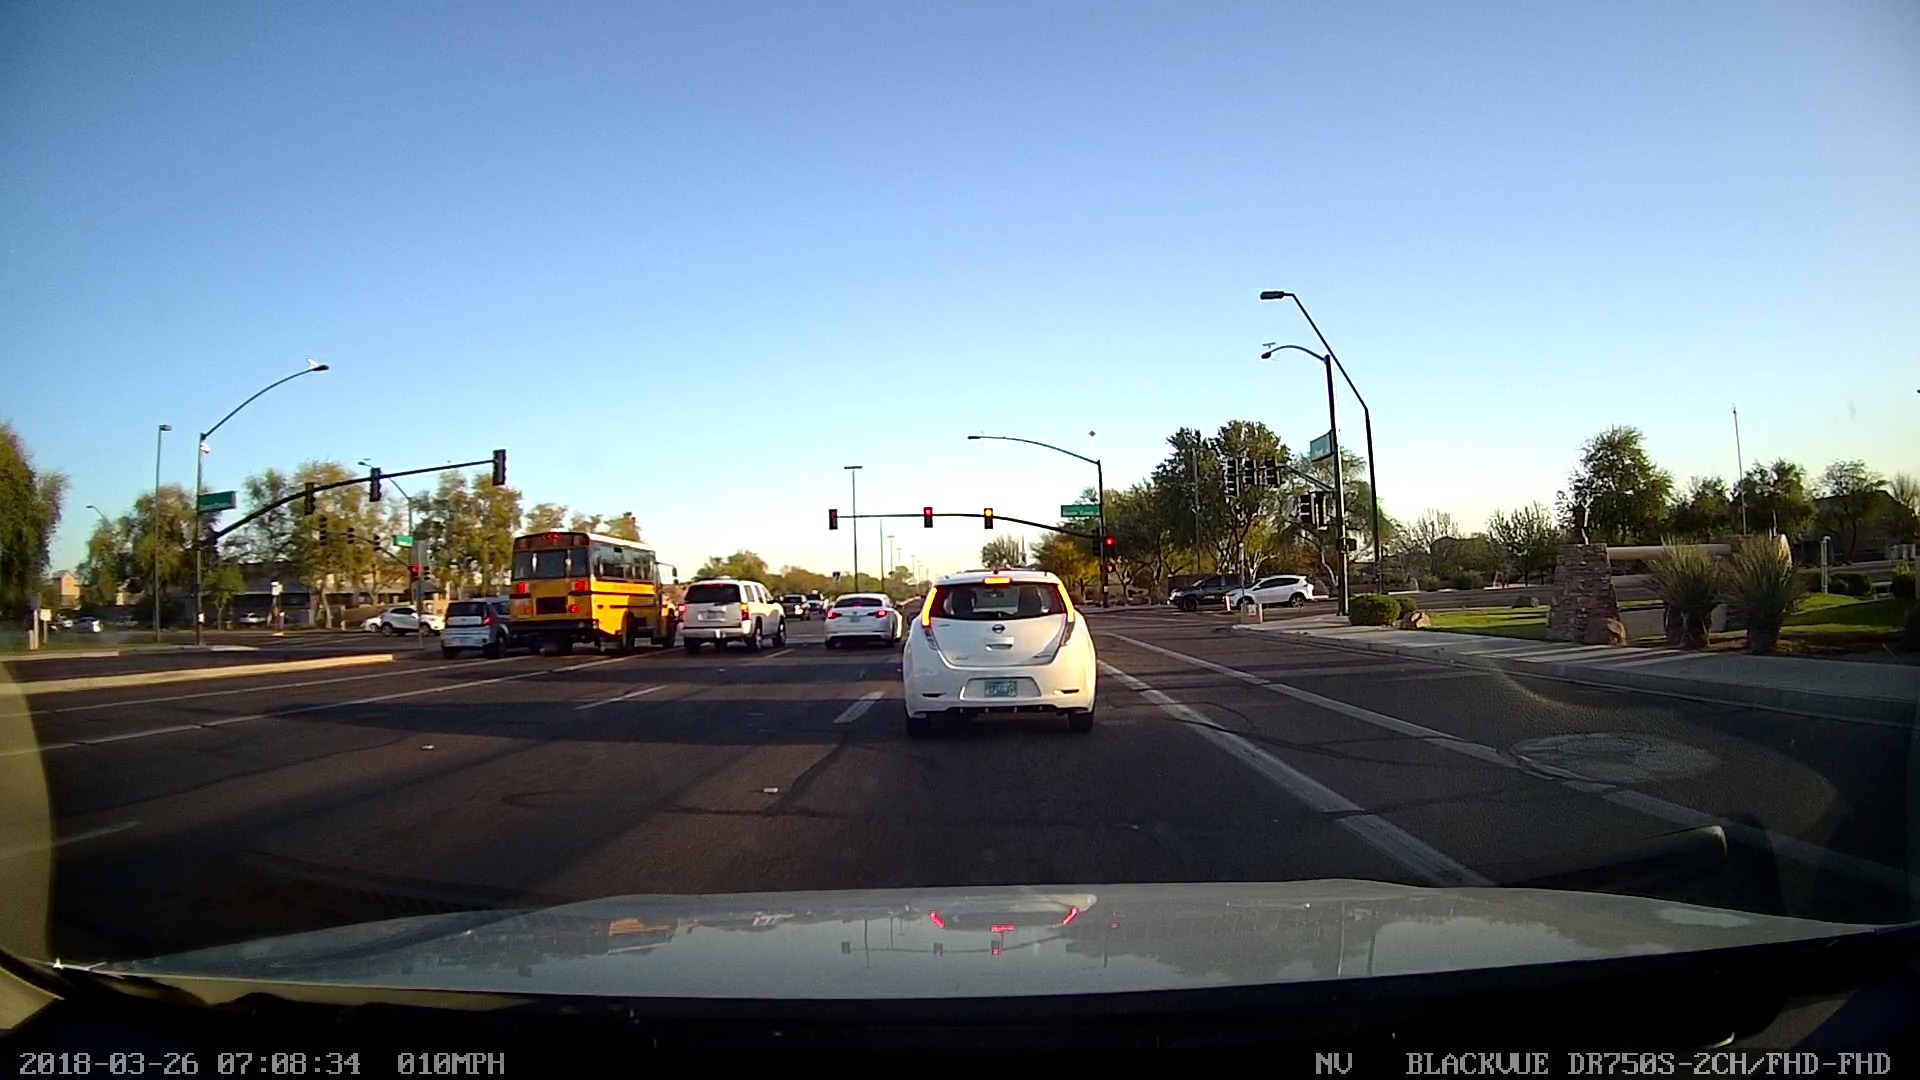vehicle: (894, 556, 1104, 740), (496, 520, 690, 671), (665, 567, 793, 654), (431, 589, 516, 662), (820, 576, 905, 647), (1226, 559, 1323, 617), (1159, 566, 1251, 613), (377, 600, 450, 636)
